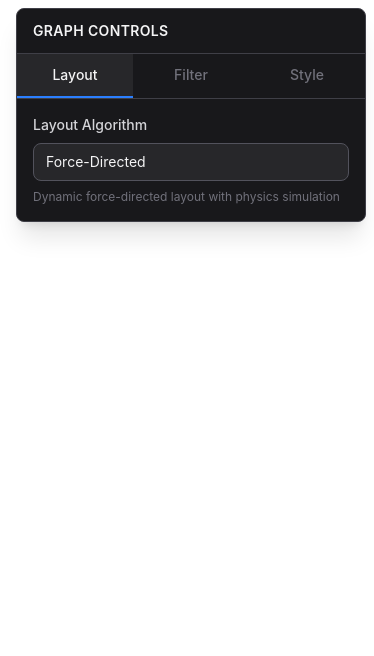
Test case: GraphControls › switches tabs
# Switch to filter tab
Click the button "filter" at (191, 76), box [133,54,249,98]
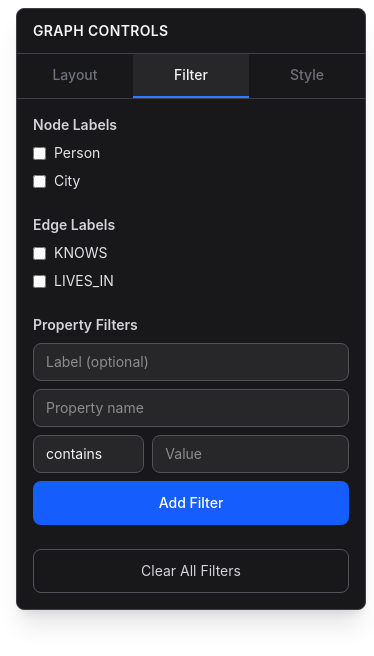
Expected: the heading "Node Labels" is shown, [33,116,117,133]
# Switch to style tab
Click the button "style" at (307, 76), box [249,54,365,98]
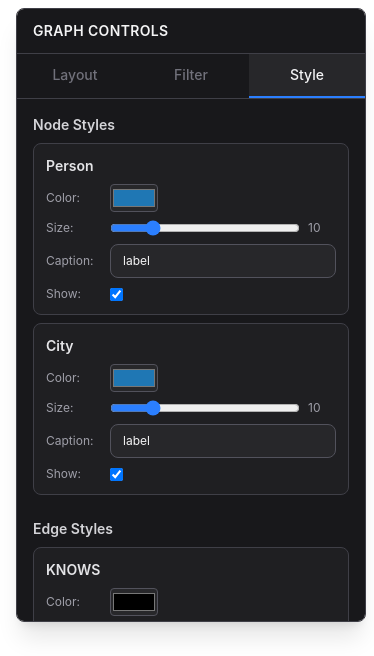
Expected: the heading "Node Styles" is shown, [33,116,115,133]
